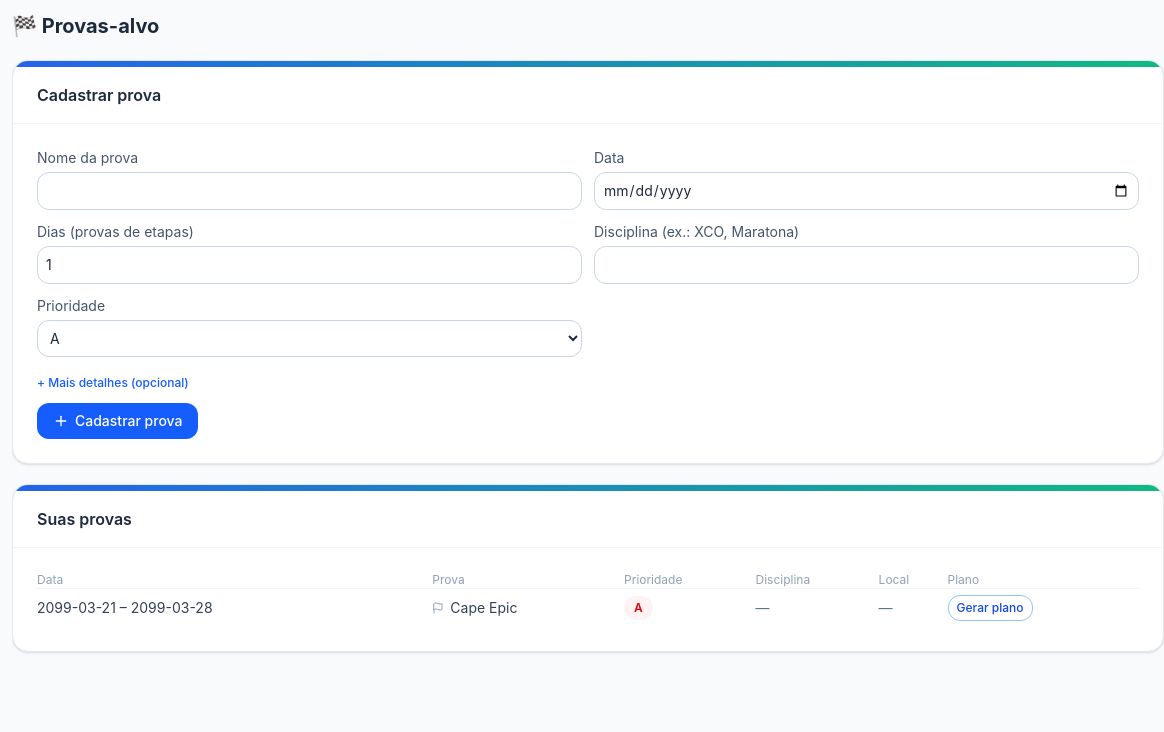
Scenario: ProvasView › botão Gerar plano dispara generate + expand e mostra sucesso
The image size is (1164, 732).
Click the button "Gerar plano".
click(990, 608)  # box [948,595,1032,621]
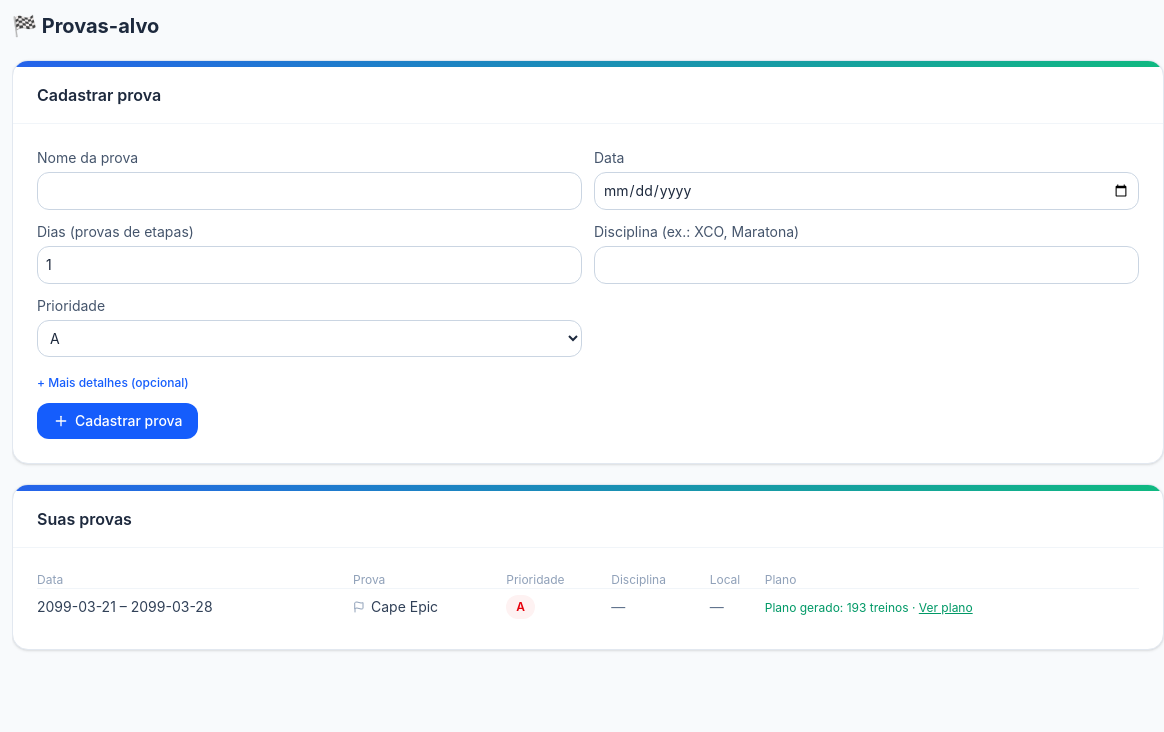
Expected: the text "Plano gerado: 193 treinos · Ver plano" is shown, [765,600,973,615]
